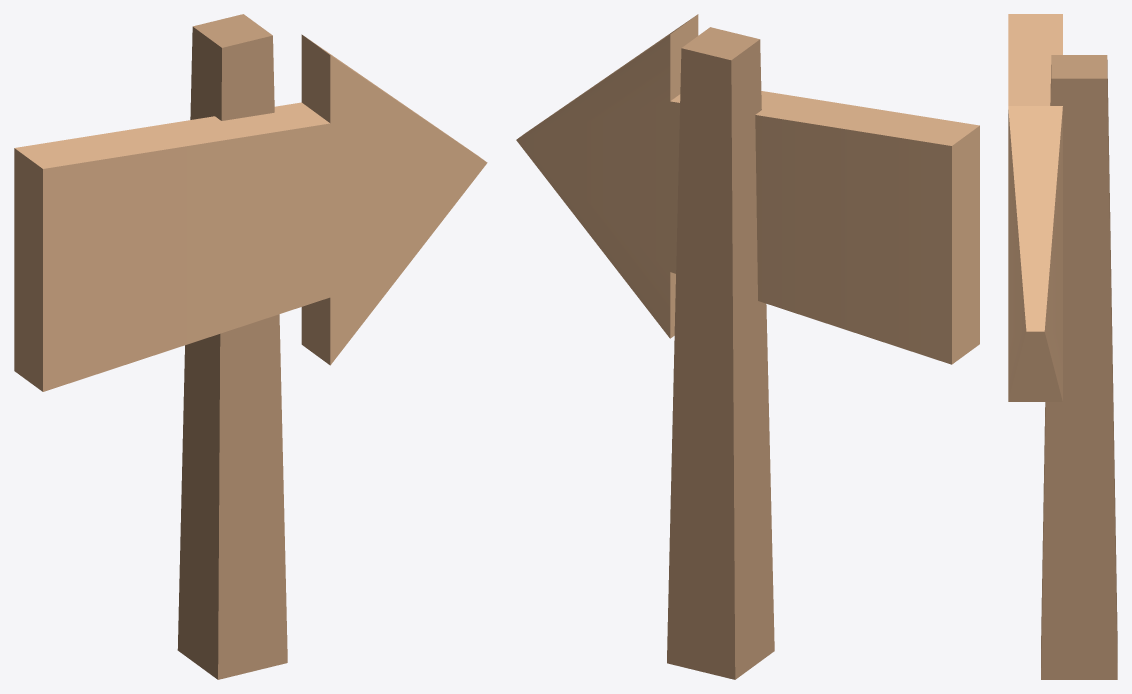
3 renders of one model, left to right at view 1: azimuth 30°, elevation 25°; view 2: azimuth 150°, elevation 25°; view 3: azimuth 270°, elevation 25°, orthographic. The views are drawn at different scales.
Parts seen in each view (by area): view 1: arrow; view 2: arrow; view 3: arrow.
Boxes of the visible parts, box(x1,y1,x2,y2) form: arrow: box(14, 14, 487, 679); arrow: box(516, 14, 979, 679); arrow: box(1008, 14, 1117, 679).
Bounding box in the file's own units: 0.4557 × 0.6 × 0.0998.
